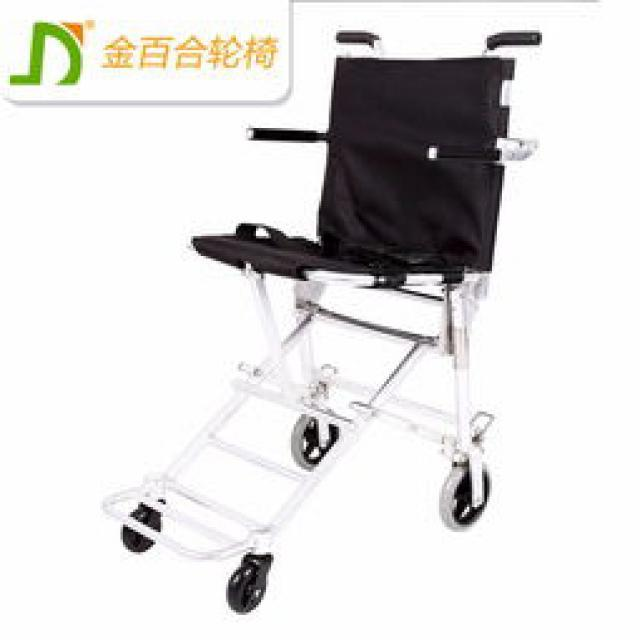wheelchair: (108, 18, 570, 622)
